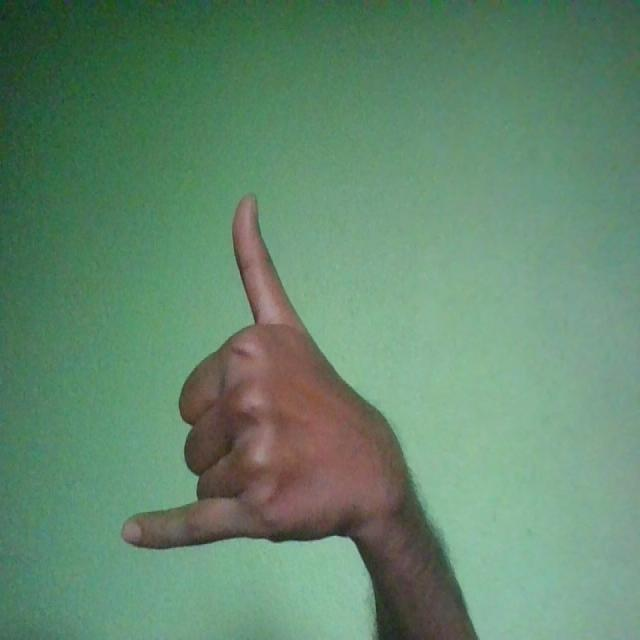Call Me: (122, 195, 416, 554)
